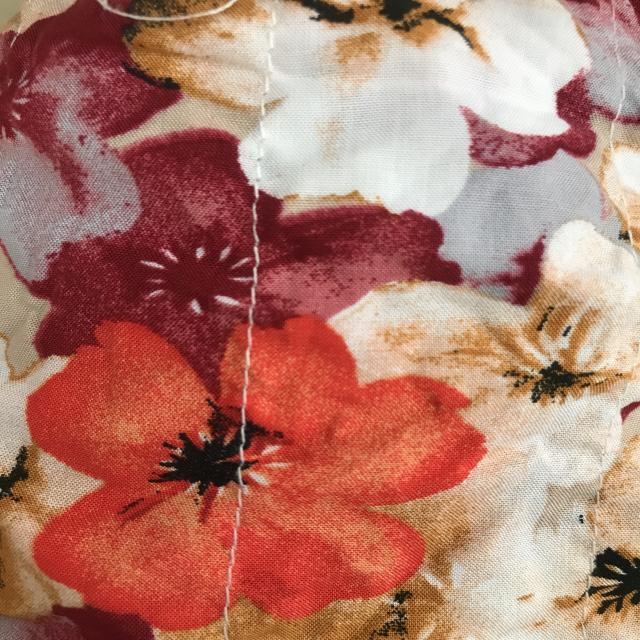good: (231, 200, 280, 289), (221, 494, 248, 595), (239, 298, 257, 429)
